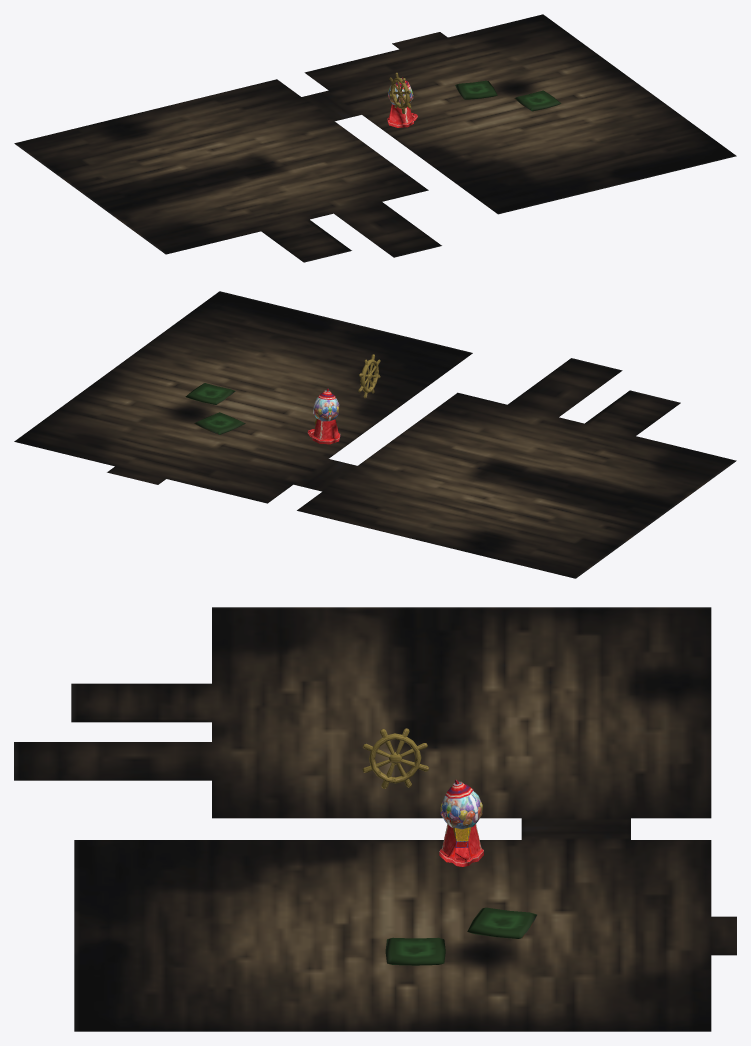
The model's file is batch_0000.obj.
3 renders of one model, top to bottom at view 1: azimuth 30°, elevation 25°; view 2: azimuth 150°, elevation 25°; view 3: azimuth 270°, elevation 25°, orthographic. The views are drawn at different scales.
Parts seen in each view (by area): view 1: batch_0000; view 2: batch_0000; view 3: batch_0000.
Part boxes in pixels (left/top/right/bottom): batch_0000: left=14, top=14, right=736, bottom=262; batch_0000: left=14, top=291, right=736, bottom=578; batch_0000: left=14, top=607, right=736, bottom=1031.
Bounding box in the file's own units: 1400 × 172 × 1008.
1 material, 1 textured.
